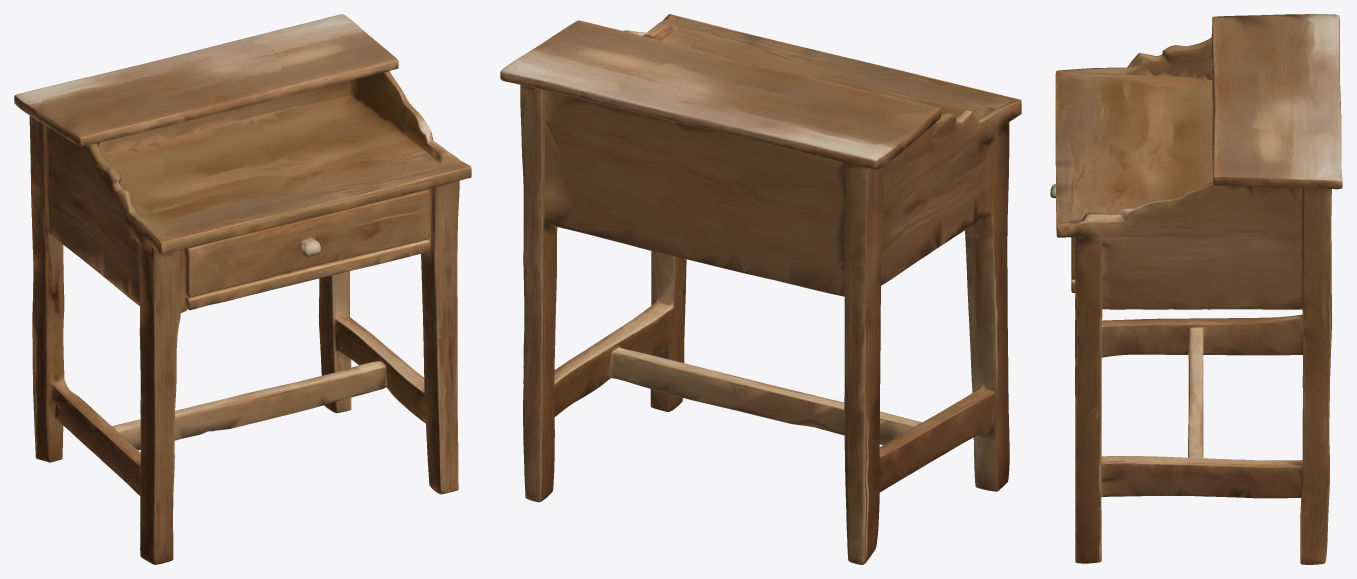
File: 纸烬决斗_课桌游戏道具_20260910.glb
3 views of the same model, side by side, from view 1: azimuth 30°, elevation 25°; view 2: azimuth 150°, elevation 25°; view 3: azimuth 270°, elevation 25° (orthographic). The views are drawn at different scales.
Parts seen in each view (by area): view 1: 课桌_Model_0; view 2: 课桌_Model_0; view 3: 课桌_Model_0.
Boxes of the visible parts, left/top/right/bottom form: 课桌_Model_0: left=14, top=14, right=471, bottom=564; 课桌_Model_0: left=500, top=14, right=1021, bottom=564; 课桌_Model_0: left=1050, top=14, right=1342, bottom=564.
Size of the model in its own units: 0.9545 by 1.05 by 0.708.
1 material, 1 textured.
